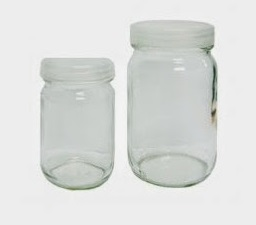glass_bottle: (123, 17, 223, 191), (32, 52, 119, 194)
